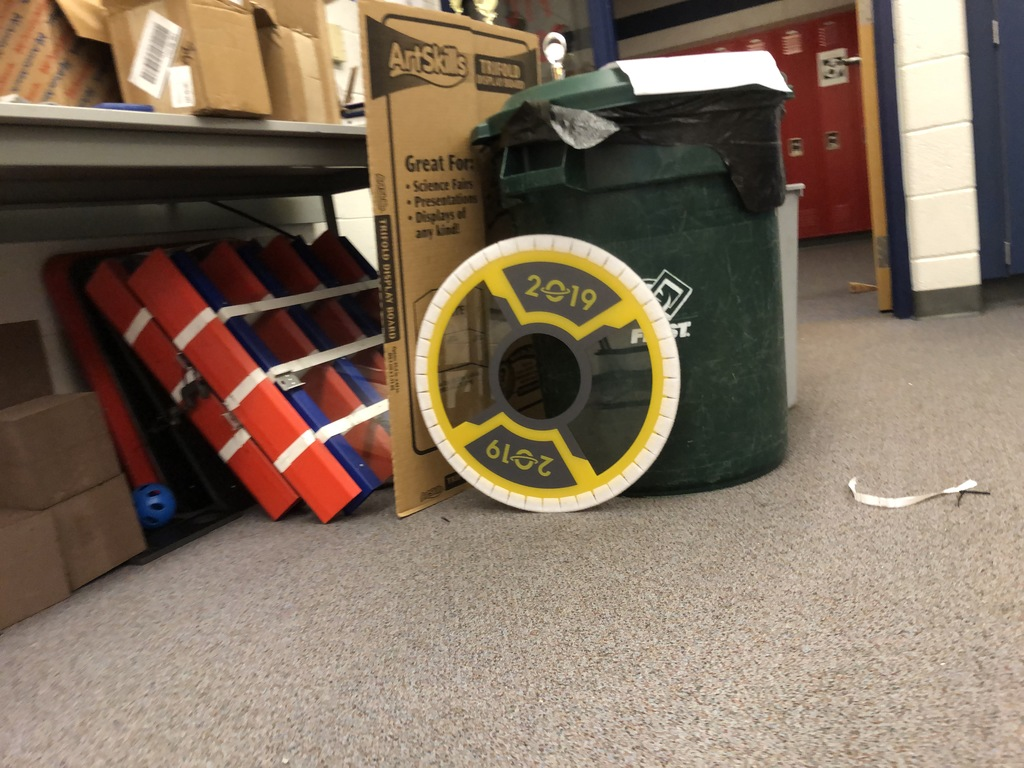hatch_panel: (399, 226, 687, 528)
